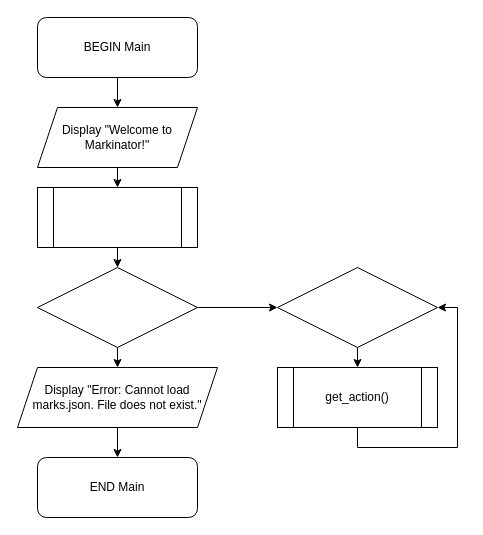
The diagram is 483 pixels wide and 535 high, and some of its shapes have lost their labels. Each missing label, with the box of its shape:
IF NOT marksfile_exists(): (36, 266, 198, 348)
marksfile_exists(): (36, 186, 198, 248)
WHILE True: (276, 266, 438, 348)
